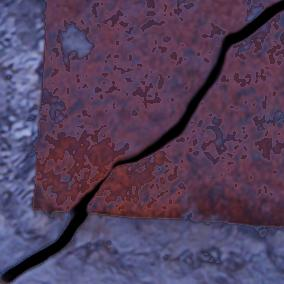broken_brick: (34, 0, 280, 210), (89, 11, 283, 225)
crack: (0, 0, 283, 283)
